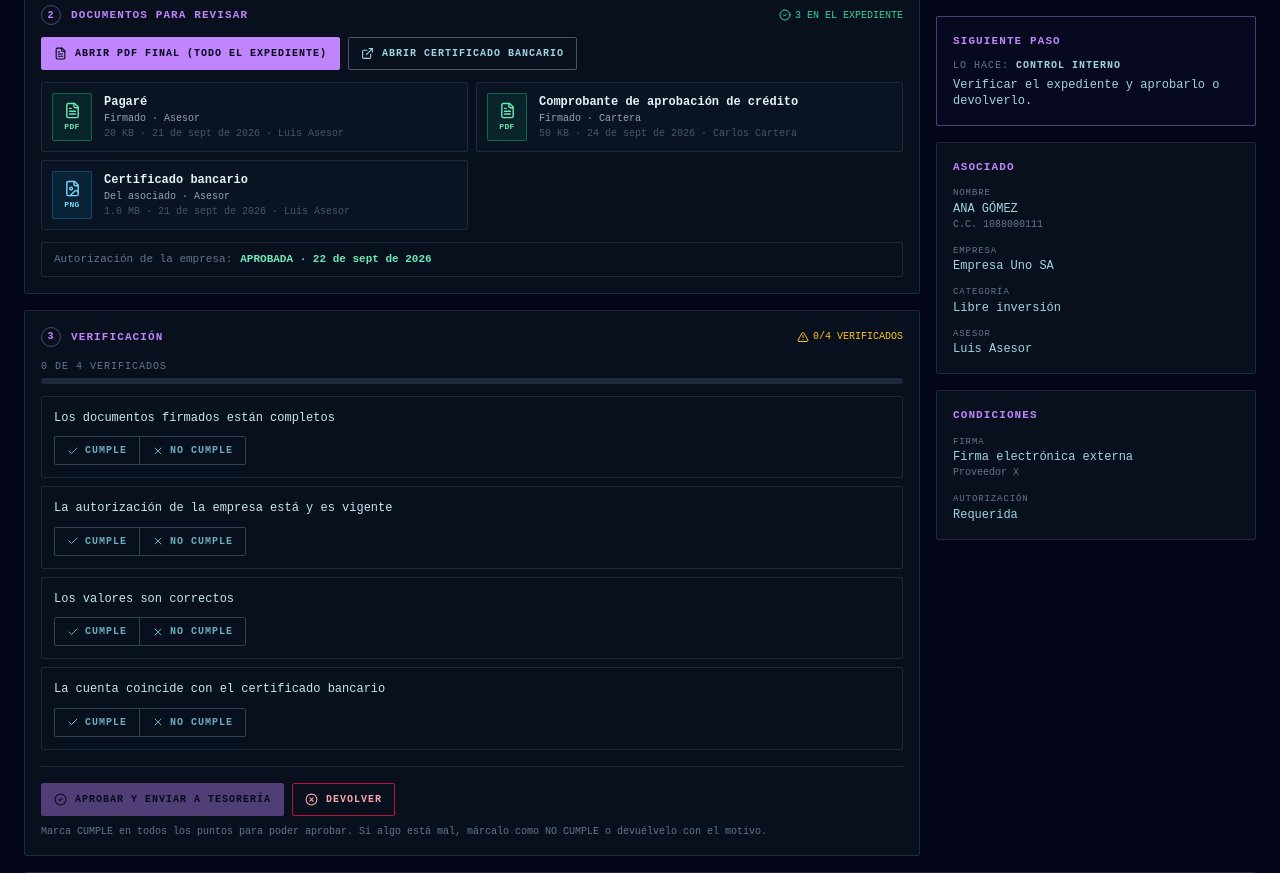
Control Interno — verificación punto por punto › cuenta cuántos puntos van verificados y lo dice en la sección
The image size is (1280, 873).
(page scrolled)
Expected: the text "0 DE 4 VERIFICADOS" is shown, left=41, top=359, right=167, bottom=374
Click the button "CUMPLE" below "Los documentos firmados están completos": (97, 451) left=55, top=437, right=139, bottom=464
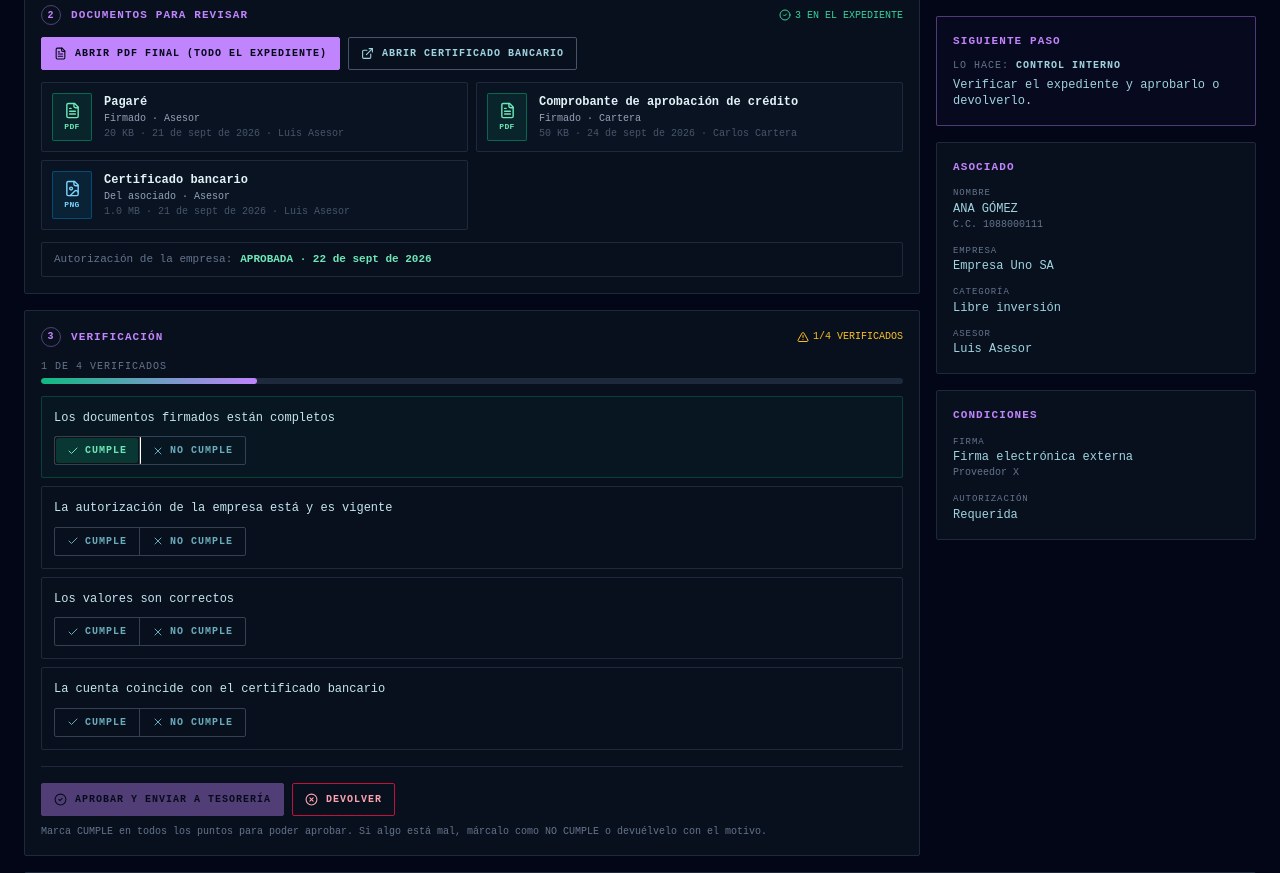
Click the 2nd button "CUMPLE": (97, 541) left=55, top=528, right=139, bottom=555
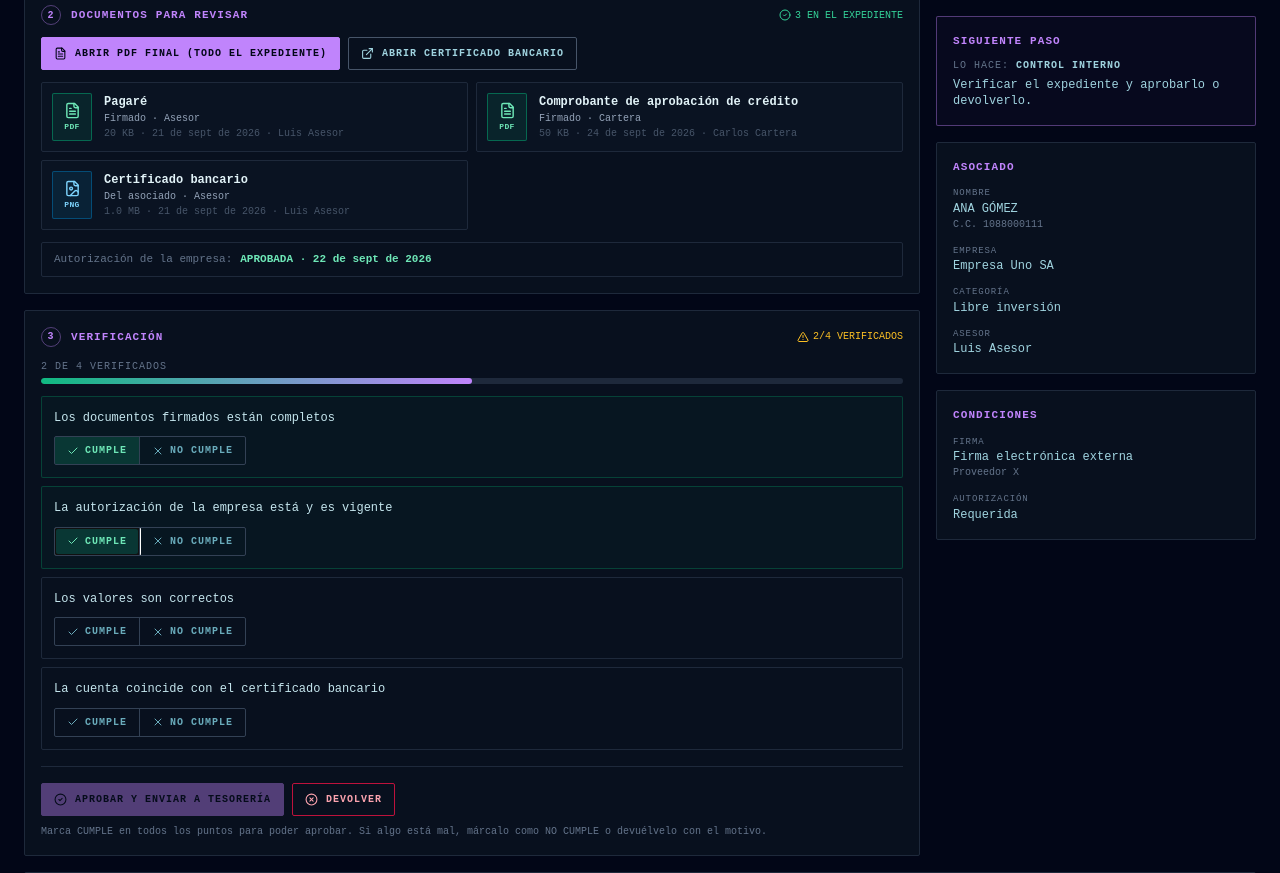
Result: the text "2 DE 4 VERIFICADOS" is shown at left=41, top=359, right=167, bottom=374
Result: the text "2/4 VERIFICADOS" is shown at left=797, top=329, right=903, bottom=344
